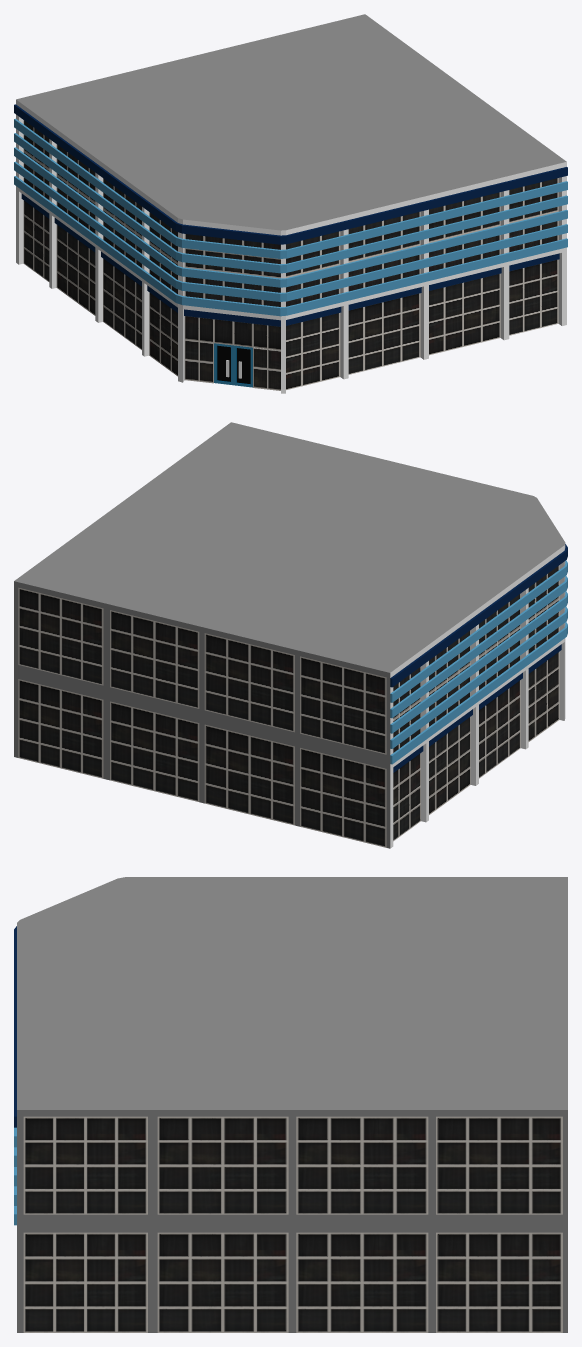
3 views of the same model, one above another, from view 1: azimuth 30°, elevation 25°; view 2: azimuth 150°, elevation 25°; view 3: azimuth 270°, elevation 25° (orthographic). The views are drawn at different scales.
Parts seen in each view (by area): view 1: EB-012; view 2: EB-012; view 3: EB-012.
Boxes of the visible parts, x1=… form: EB-012: x1=14, y1=14, x2=567, y2=393; EB-012: x1=14, y1=422, x2=567, y2=848; EB-012: x1=14, y1=877, x2=567, y2=1332.
Size of what is drawn, in the model's own units: 20.09 by 8.93 by 20.09.
